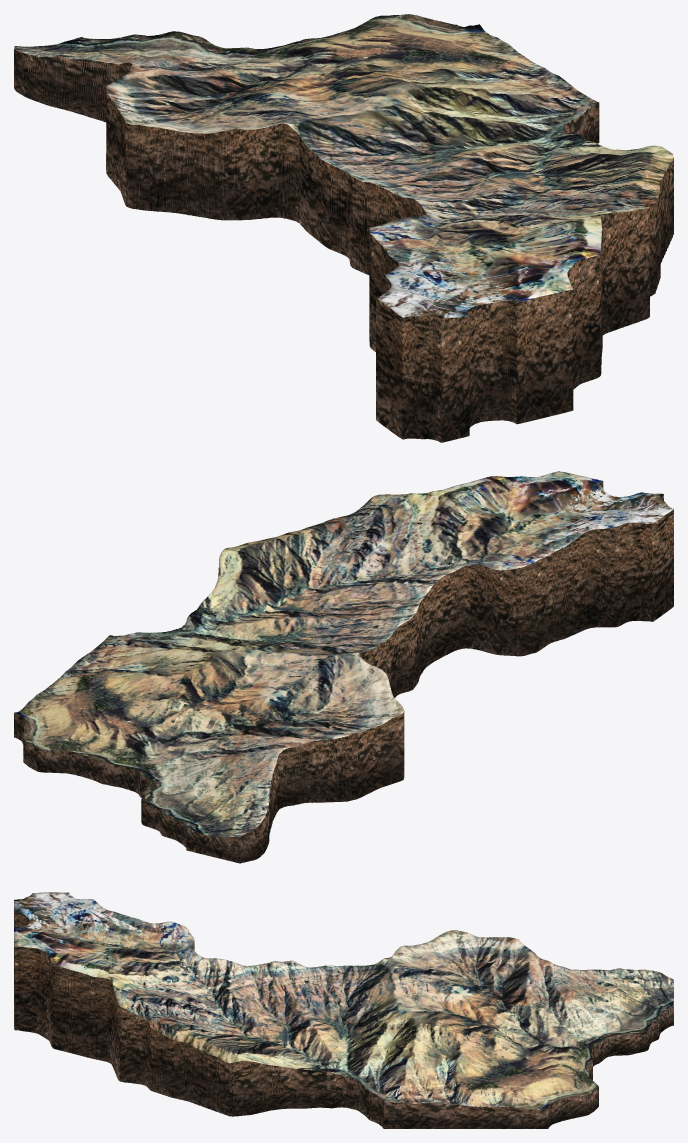
Rendered from andean-condor.glb.
3 renders of one model, top to bottom at view 1: azimuth 30°, elevation 25°; view 2: azimuth 150°, elevation 25°; view 3: azimuth 270°, elevation 25°, orthographic. The views are drawn at different scales.
Parts seen in each view (by area): view 1: Object_5, Object_3; view 2: Object_5, Object_3, Object_2; view 3: Object_5, Object_3, Object_2.
Part boxes in pixels (x1,y1,x2,y2): Object_5: [14, 14, 673, 318]; Object_3: [14, 47, 673, 442]; Object_5: [15, 471, 673, 837]; Object_3: [14, 476, 673, 863]; Object_2: [186, 748, 287, 863]; Object_5: [14, 892, 673, 1109]; Object_3: [14, 892, 673, 1128]; Object_2: [383, 1101, 548, 1128].
Bounding box in the file's own units: 0.9426 × 0.2504 × 1.73.
Materials: 2 (2 with a texture image).
